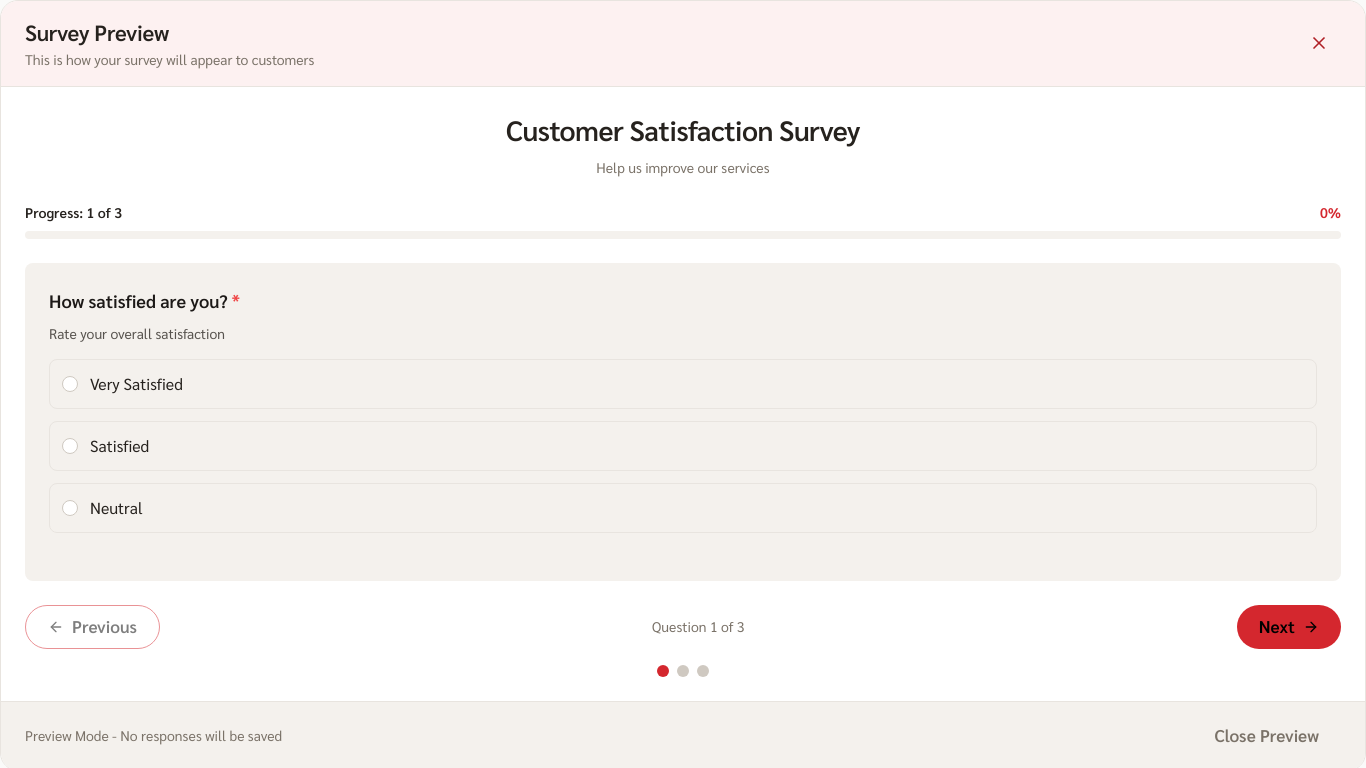
Test: SurveyPreview › Question Navigation › should enable Previous button on later questions
The image size is (1366, 768).
Click the button "Next". click: (1289, 627)
box: [1237, 605, 1341, 649]
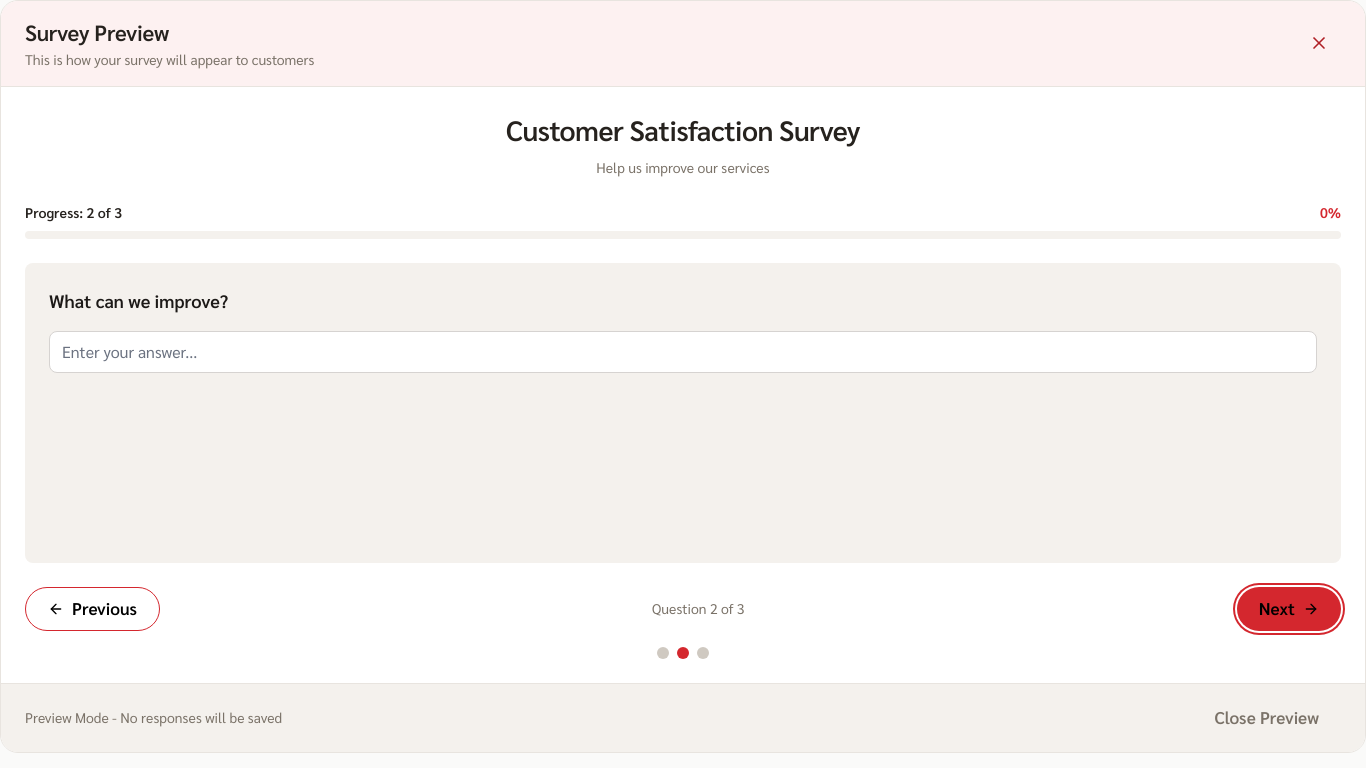
expect the button "Previous" is enabled: met, box [25, 587, 160, 631]
